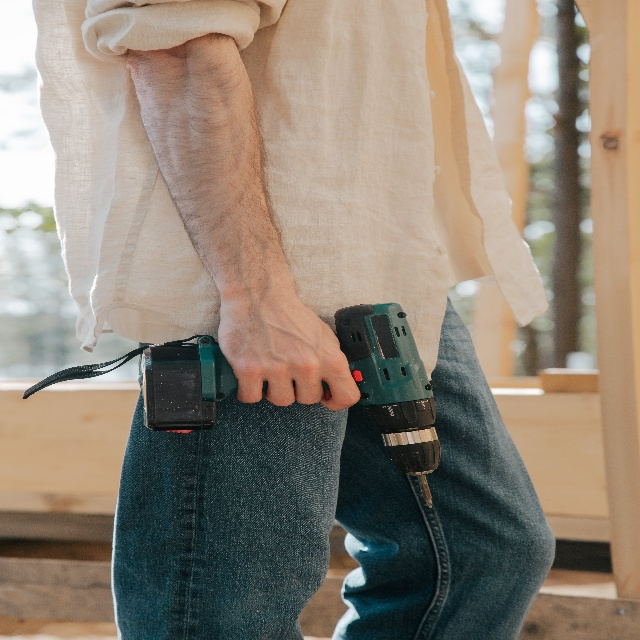Sin_guantes: (221, 294, 361, 415)
